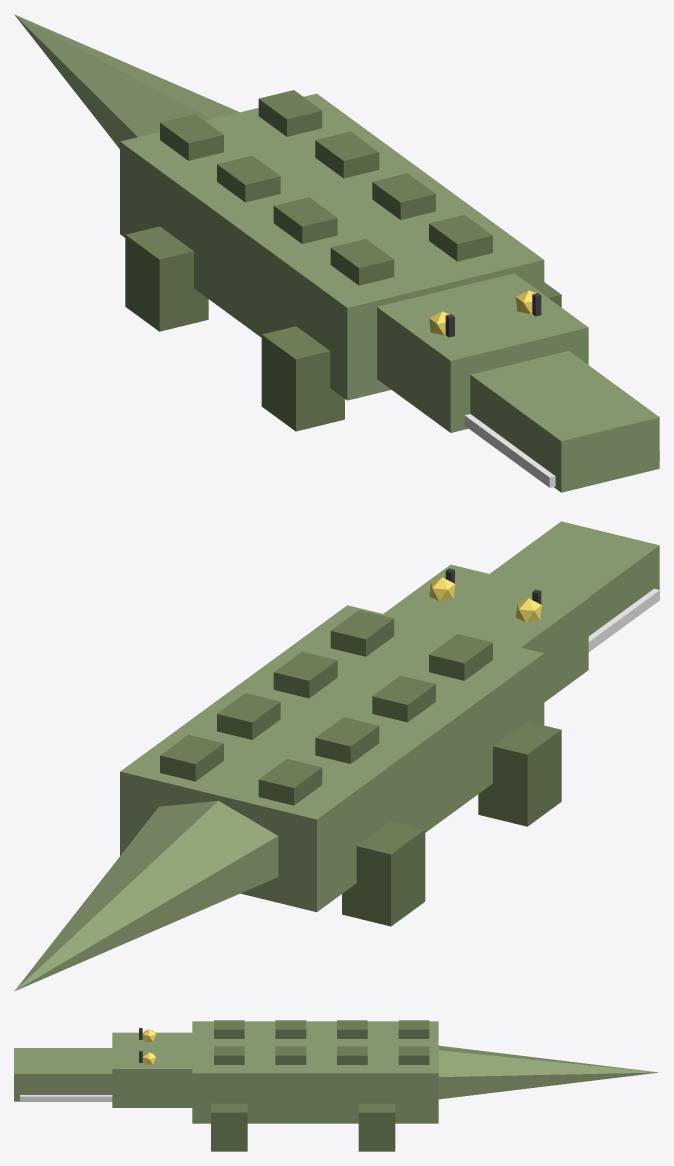
File: Croc.fbx
The picture shows the model from 3 angles, top to bottom: view 1: azimuth 30°, elevation 25°; view 2: azimuth 150°, elevation 25°; view 3: azimuth 270°, elevation 25°; orthographic projection. The views are drawn at different scales.
Parts seen in each view (by area): view 1: Body, Limb_Head, Limb_Tail; view 2: Body, Limb_Head, Limb_Tail; view 3: Body, Limb_Head, Limb_Tail.
Part boxes in pixels (<box>): Body: <box>120,90,561,431</box>; Limb_Head: <box>377,273,659,492</box>; Limb_Tail: <box>14,14,239,148</box>; Body: <box>120,605,561,926</box>; Limb_Head: <box>383,521,659,702</box>; Limb_Tail: <box>14,800,278,991</box>; Body: <box>192,1020,438,1151</box>; Limb_Head: <box>14,1028,192,1107</box>; Limb_Tail: <box>438,1045,659,1099</box>.
Bounding box in the file's own units: 1.35 × 0.705 × 5.25.
